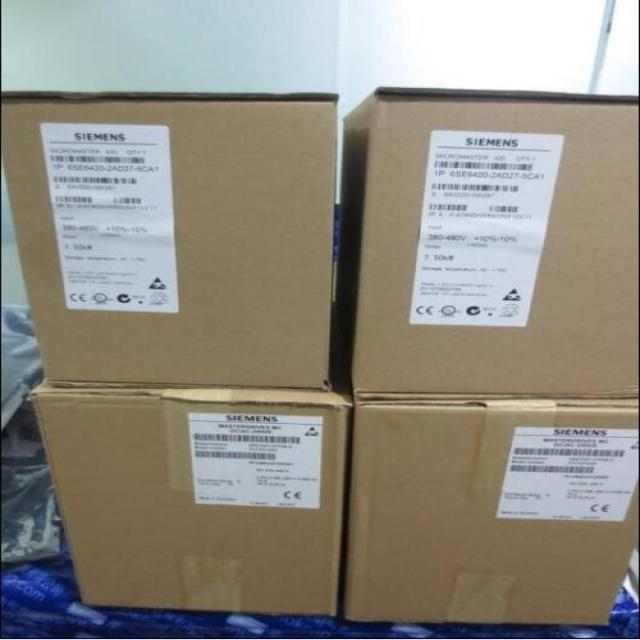box: (2, 91, 346, 391), (330, 90, 639, 400), (31, 379, 355, 615), (344, 399, 639, 622)
